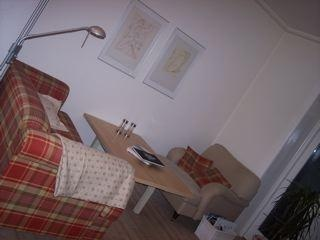pottedplant: (253, 181, 320, 240)
sofa: (1, 60, 137, 240), (161, 143, 261, 228)
